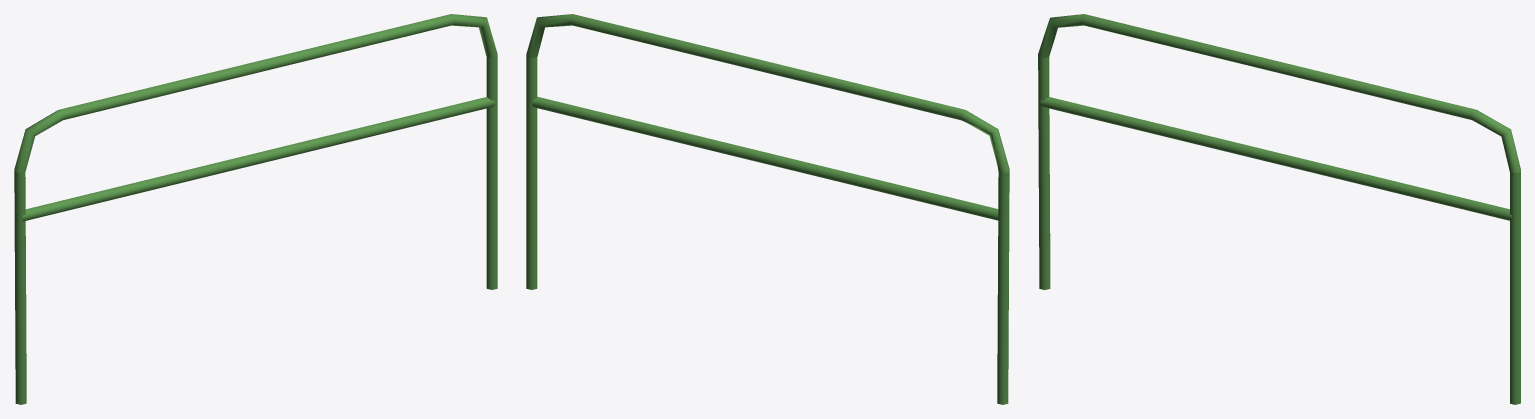
The model's file is parapet fence lod1.FBX.
3 renders of one model, left to right at view 1: azimuth 30°, elevation 25°; view 2: azimuth 150°, elevation 25°; view 3: azimuth 330°, elevation 25°, orthographic.
Parts seen in each view (by area): view 1: Object351; view 2: Object351; view 3: Object351.
Part boxes in pixels (box(x1,y1,x2,y2)): Object351: box(14, 14, 497, 404); Object351: box(526, 14, 1009, 404); Object351: box(1038, 14, 1520, 404).
Size of the model in its own units: 1.75 by 0.9782 by 0.0354.
